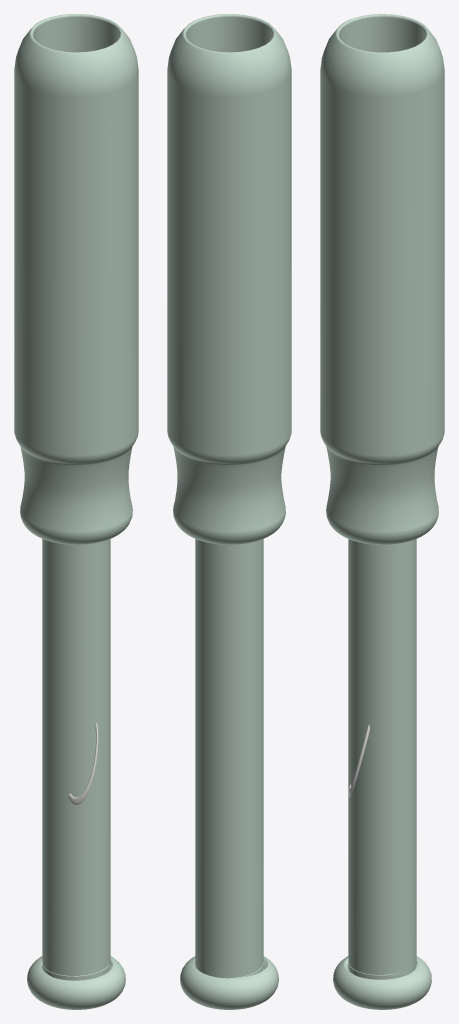
File: fig2.glb
3 views of the same model, side by side, from view 1: azimuth 30°, elevation 25°; view 2: azimuth 150°, elevation 25°; view 3: azimuth 330°, elevation 25° (orthographic).
Visible parts, largest first — view 1: FIG. 2; view 2: FIG. 2; view 3: FIG. 2.
Boxes of the visible parts, x1=… form: FIG. 2: x1=14, y1=14, x2=138, y2=1009; FIG. 2: x1=167, y1=14, x2=291, y2=1009; FIG. 2: x1=320, y1=14, x2=444, y2=1009.
Size of the model in its own units: 2.88 by 24.51 by 2.88.
